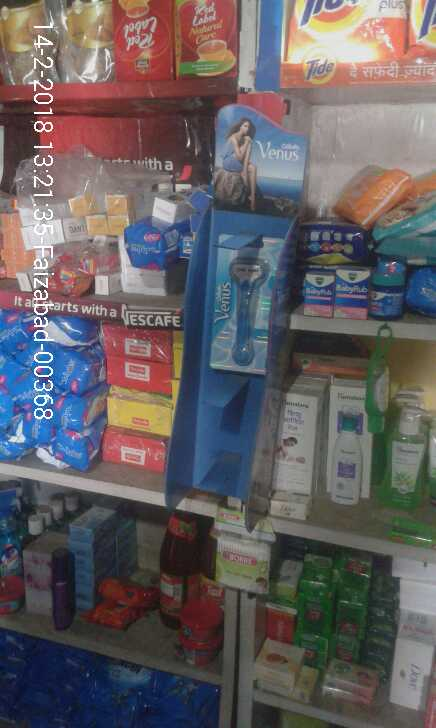beauty: (206, 237, 269, 375)
pharmacy: (361, 264, 405, 325), (333, 265, 369, 318), (293, 272, 334, 318)
